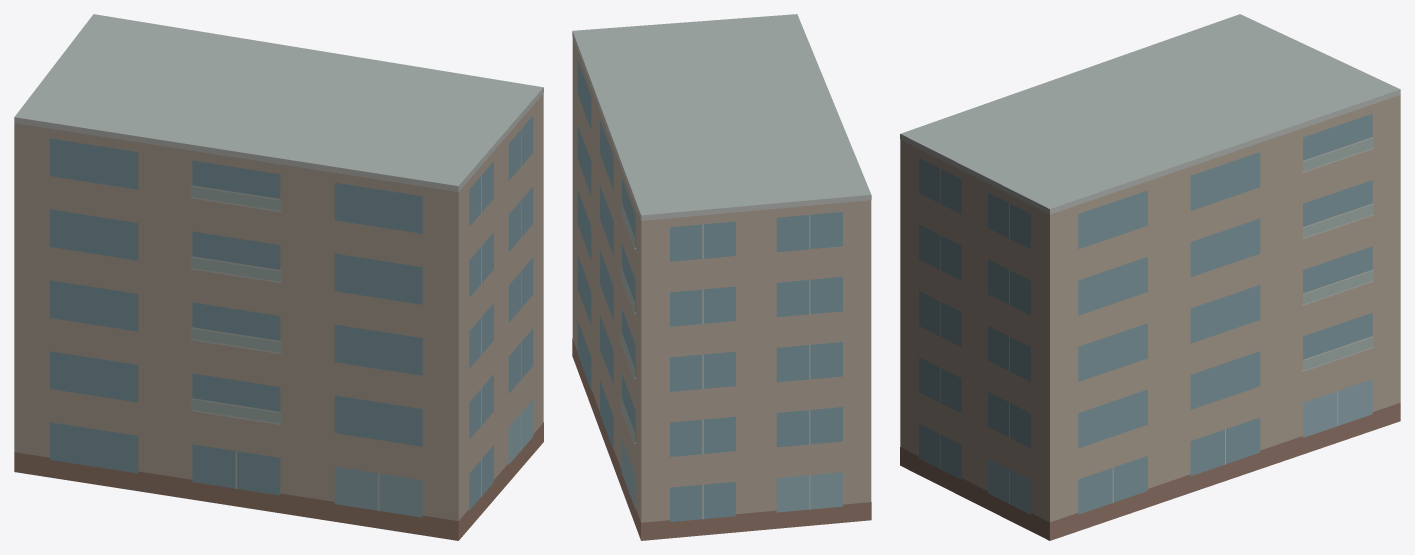
File: survey-upis-33035847.glb
3 views of the same model, side by side, from view 1: azimuth 30°, elevation 25°; view 2: azimuth 150°, elevation 25°; view 3: azimuth 270°, elevation 25° (orthographic). The views are drawn at different scales.
Visible parts, largest first — view 1: survey-upis-33035847.tmp; view 2: survey-upis-33035847.tmp; view 3: survey-upis-33035847.tmp.
Boxes of the visible parts, x1,y1,x2,y2 form: survey-upis-33035847.tmp: (14, 14, 543, 540); survey-upis-33035847.tmp: (572, 14, 871, 540); survey-upis-33035847.tmp: (900, 14, 1400, 540).
Bounding box in the file's own units: 18.56 × 14.7 × 20.11.
